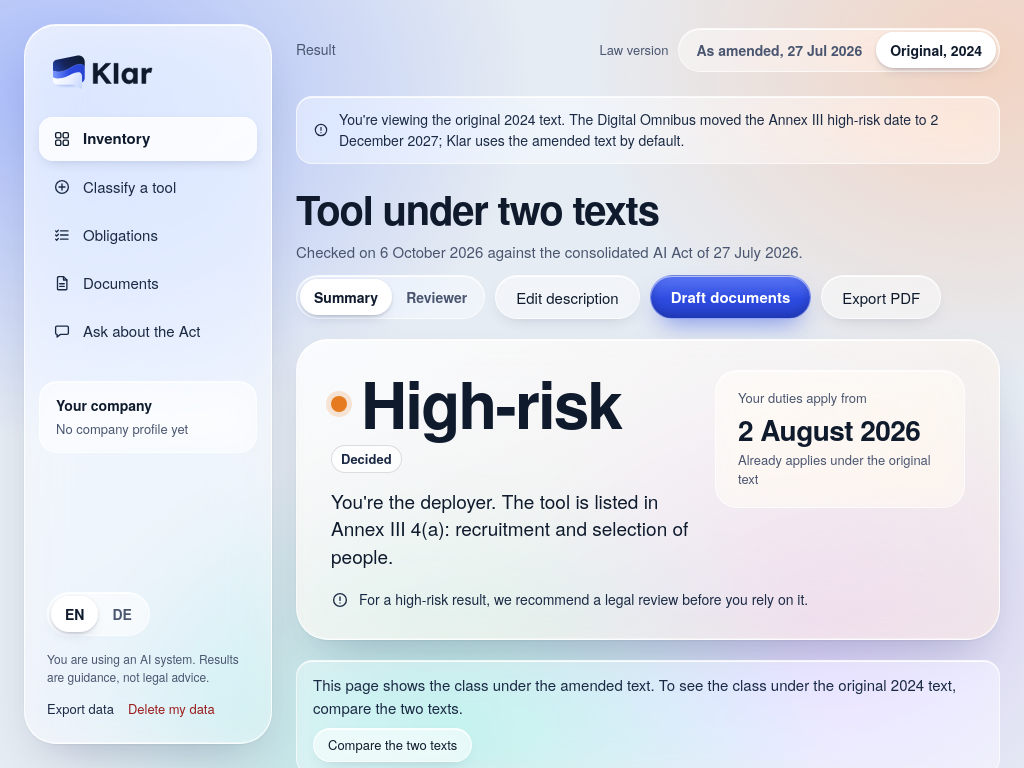
Test: The summary under the original text › says the class is the amended text's until the original is checked, and links to the comparison
Expected: the heading "Tool under two texts" is shown, [296, 180, 659, 237]
Expected: the text "This page shows the class under the amended text. To see the class under the original 2024 text, compare the two texts." is shown, [313, 674, 956, 718]
Click the button "Compare the two texts".
click(393, 745)  # box [313, 728, 472, 762]
(page scrolled)
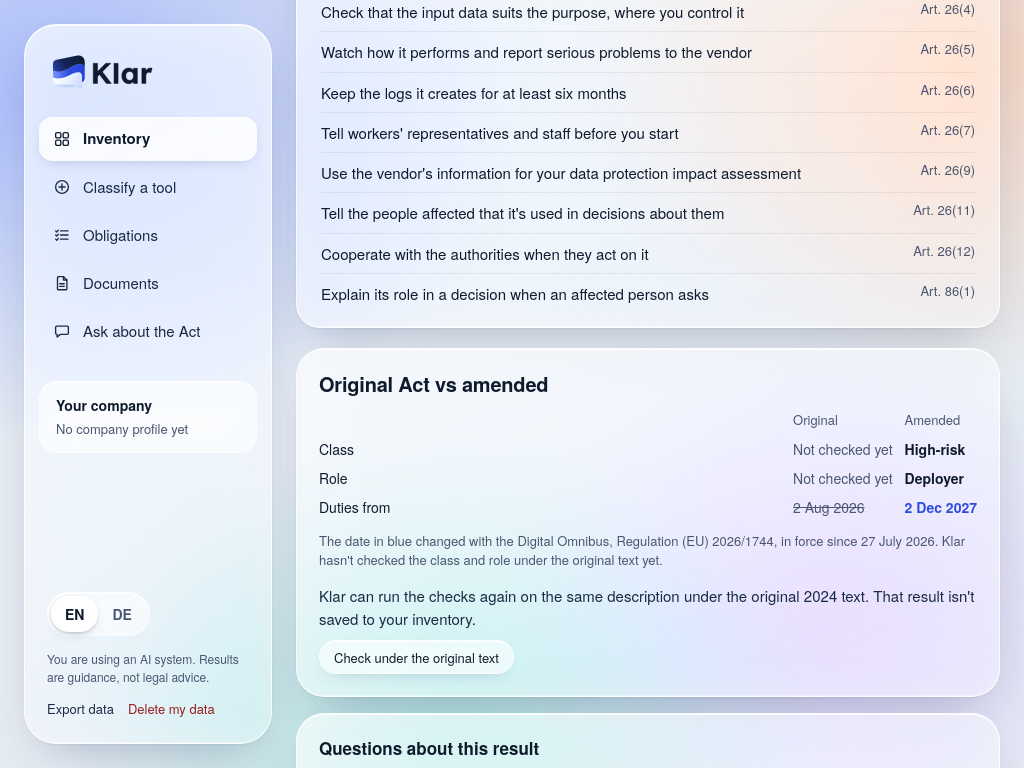
Expected: the element "Original Act vs amended" is shown, [296, 348, 1000, 697]
